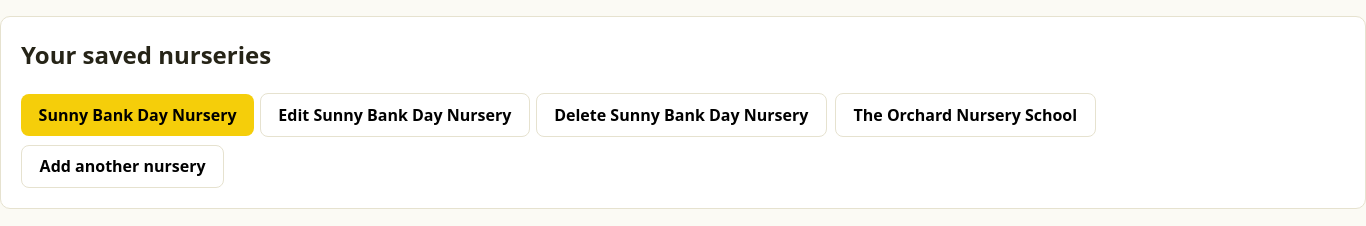
NurserySwitcher › backs out of a delete without deleting
This screenshot has width=1366, height=226.
Click the button "Delete Sunny Bank Day Nursery": click(681, 115) [536,93,827,136]
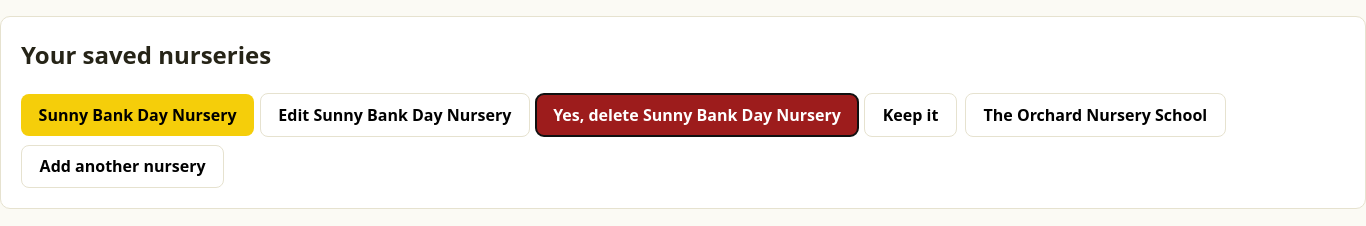
Click the button "Keep it": click(910, 115) [864,93,957,136]
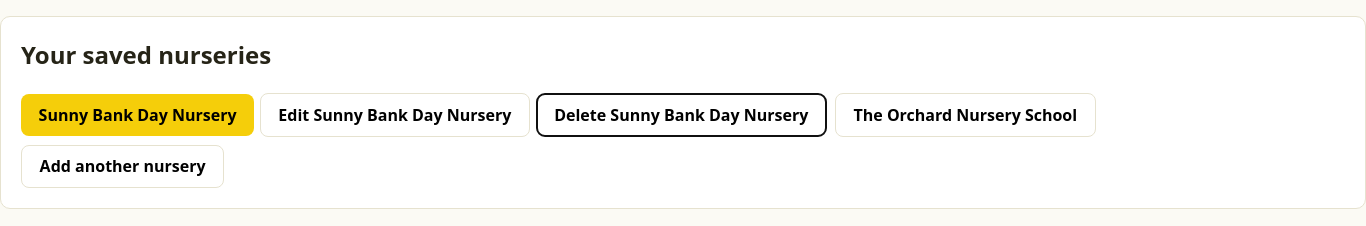
Check: the button "Delete Sunny Bank Day Nursery" is shown, box [536,93,827,136]
